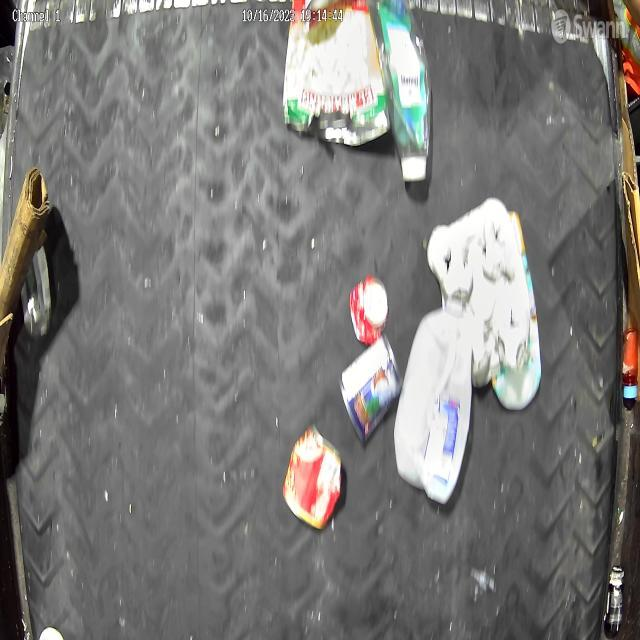can: (338, 330, 404, 452), (280, 422, 344, 533), (348, 272, 392, 346), (23, 249, 53, 339)
milk_jug: (392, 298, 473, 506)
plastic_bottle: (374, 0, 434, 185)
